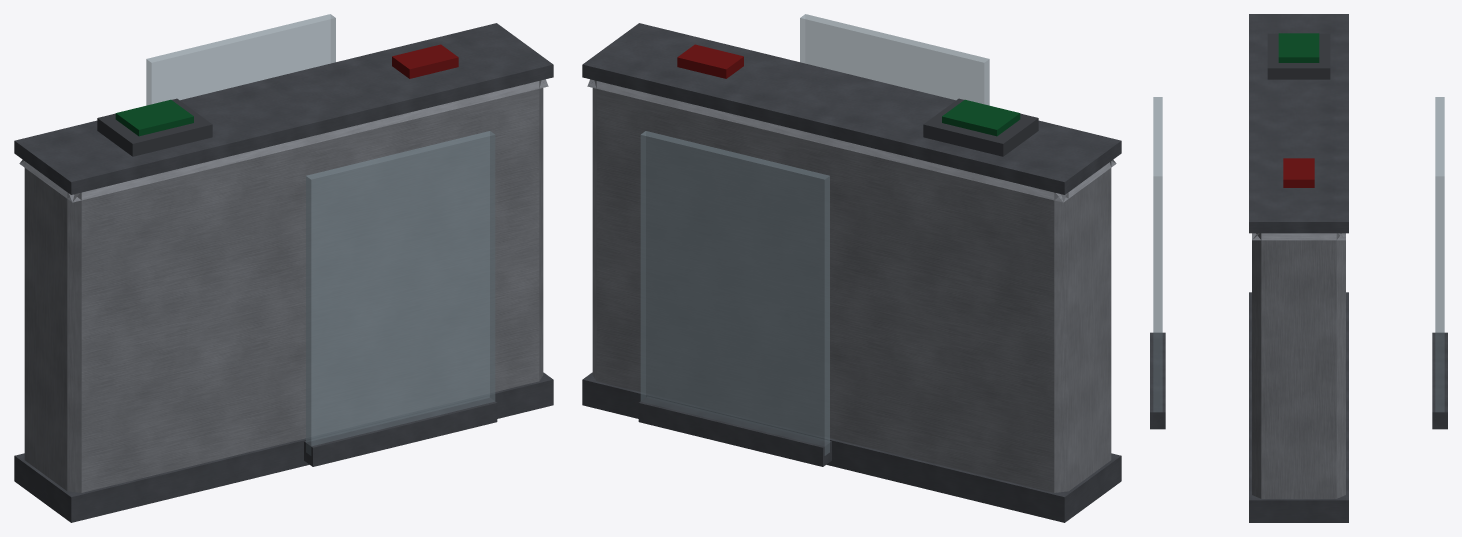
The model's file is ticket_gate.obj.
The picture shows the model from 3 angles, left to right: view 1: azimuth 30°, elevation 25°; view 2: azimuth 150°, elevation 25°; view 3: azimuth 270°, elevation 25°; orthographic projection. The views are drawn at different scales.
Parts seen in each view (by area): view 1: ticket_gate; view 2: ticket_gate; view 3: ticket_gate.
Part boxes in pixels (<box>): ticket_gate: <box>14,14,553,522</box>; ticket_gate: <box>582,14,1121,522</box>; ticket_gate: <box>1150,14,1447,522</box>.
Bounding box in the file's own units: 1.57 × 1.12 × 0.95.
